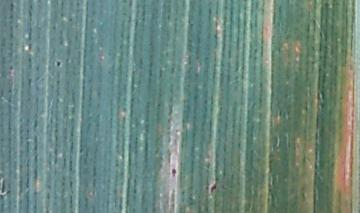tarspot: (207, 177, 219, 198), (53, 56, 64, 69), (168, 166, 179, 179)
